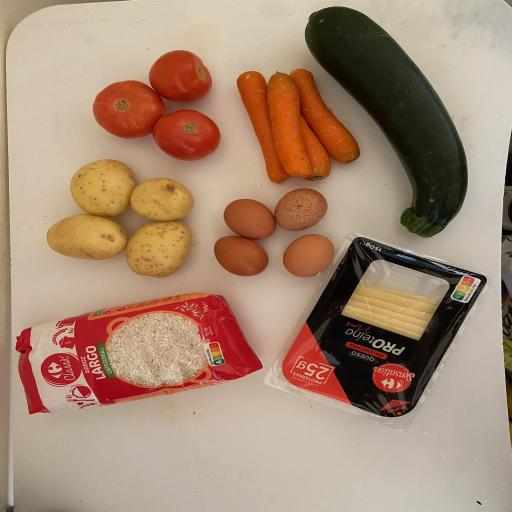carrot: (269, 64, 371, 177), (276, 56, 348, 186), (255, 52, 323, 188), (227, 62, 300, 184)
cheese: (275, 223, 501, 443)
courgette: (289, 2, 502, 246)
egg: (265, 218, 347, 291), (260, 175, 338, 244), (204, 226, 284, 286), (214, 190, 282, 251)
potato: (60, 150, 146, 224), (116, 214, 198, 286), (41, 210, 138, 269), (121, 171, 207, 224)
rice: (14, 279, 274, 428)
tomato: (78, 74, 182, 149), (135, 99, 229, 168), (138, 43, 224, 108)
